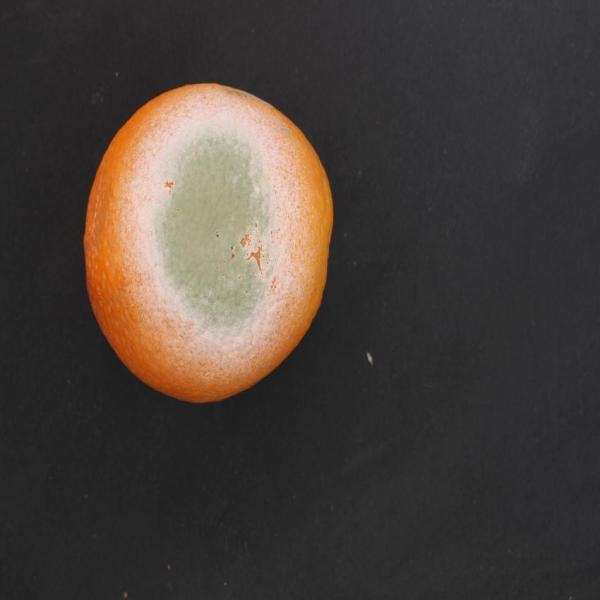Moho verde: (71, 68, 348, 414)
